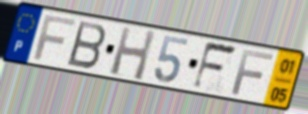5: (152, 33, 190, 85)
B: (65, 19, 108, 71)
F: (189, 40, 240, 92), (230, 48, 276, 97), (32, 13, 78, 62)
H: (108, 25, 158, 83)
